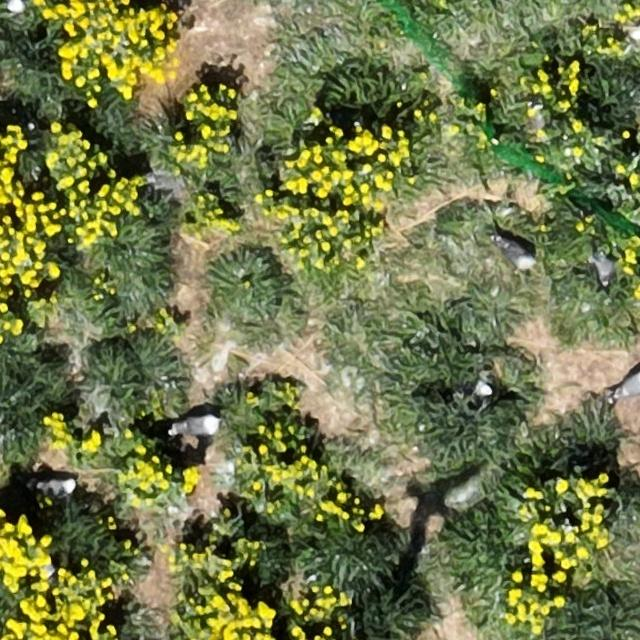umineko: (498, 239, 533, 267), (174, 414, 220, 435), (614, 369, 640, 396), (44, 477, 75, 495), (597, 255, 613, 285), (6, 0, 27, 11)
